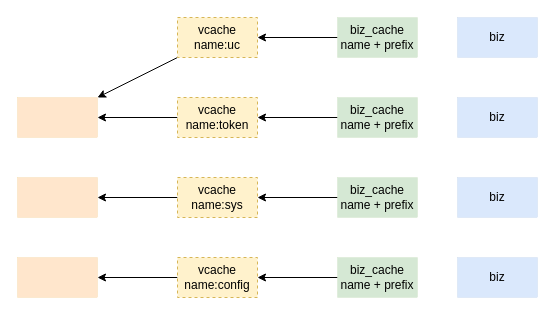
Image size: 554x315. Some labels were removed from this diagram. The shapes that lost their labels are listed below. From the top down, each one's centre as x and y in pixels, then its label:
the point at 57,117: name:uc type:redis
the point at 57,197: name:default type:redis
the point at 57,277: name:local type:local
